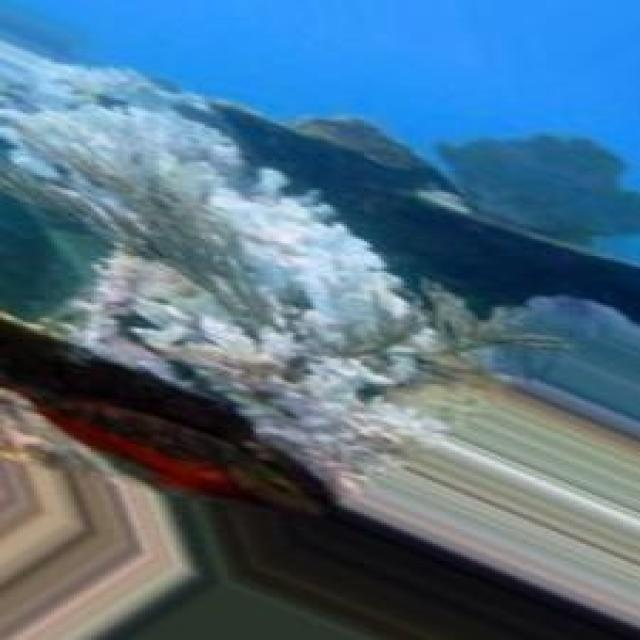Bleached: (1, 44, 413, 421)
